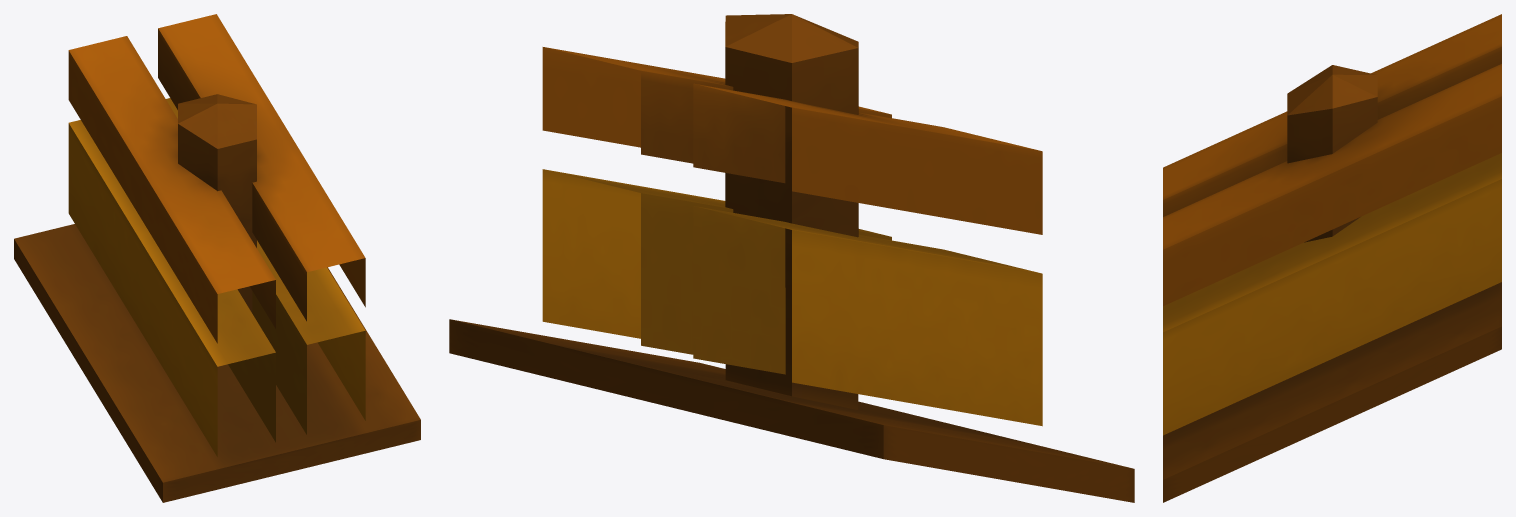
File: BarriereBoisP_I.FBX
The picture shows the model from 3 angles, left to right: view 1: azimuth 30°, elevation 25°; view 2: azimuth 150°, elevation 25°; view 3: azimuth 270°, elevation 25°; orthographic projection. The views are drawn at different scales.
Parts seen in each view (by area): view 1: BarriereBoisP_I; view 2: BarriereBoisP_I; view 3: BarriereBoisP_I.
Boxes of the visible parts, box(x1,y1,x2,y2) form: BarriereBoisP_I: box(14, 14, 420, 502); BarriereBoisP_I: box(449, 14, 1134, 502); BarriereBoisP_I: box(1163, 14, 1501, 502).
Bounding box in the file's own units: 1 × 1.22 × 1.
